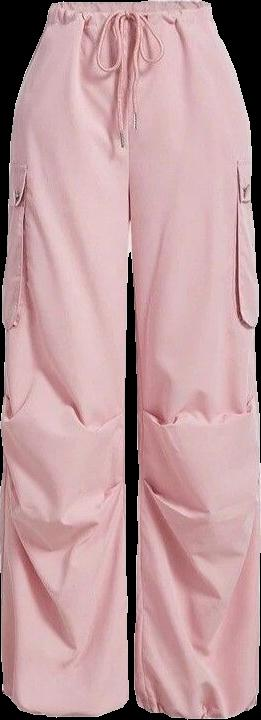Hemline: (2, 686, 130, 719), (137, 700, 260, 719)
Pantleg: (123, 0, 259, 717), (0, 2, 128, 716)
Waistline: (49, 1, 206, 11)
